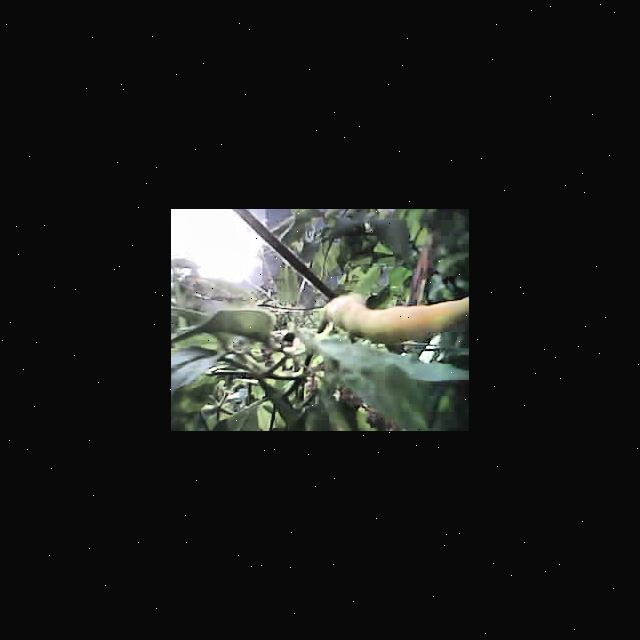Cabai: (327, 290, 469, 342)
